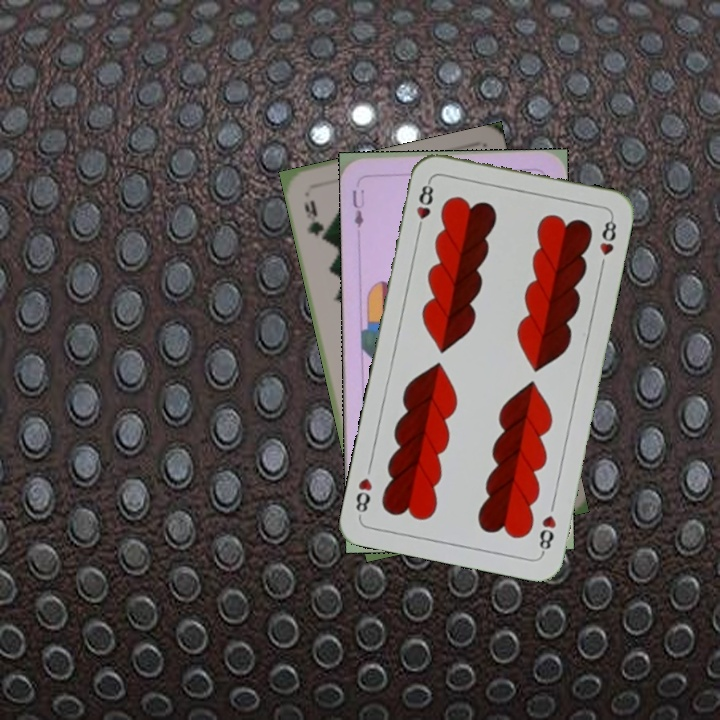EU: (349, 185, 367, 230)
G9: (300, 196, 329, 246)
H8: (412, 177, 436, 235), (535, 511, 559, 557)
